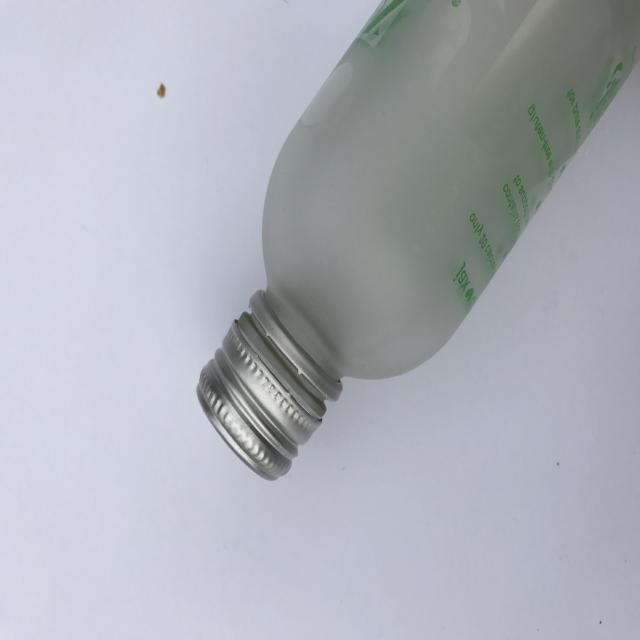glass: (196, 0, 640, 481)
